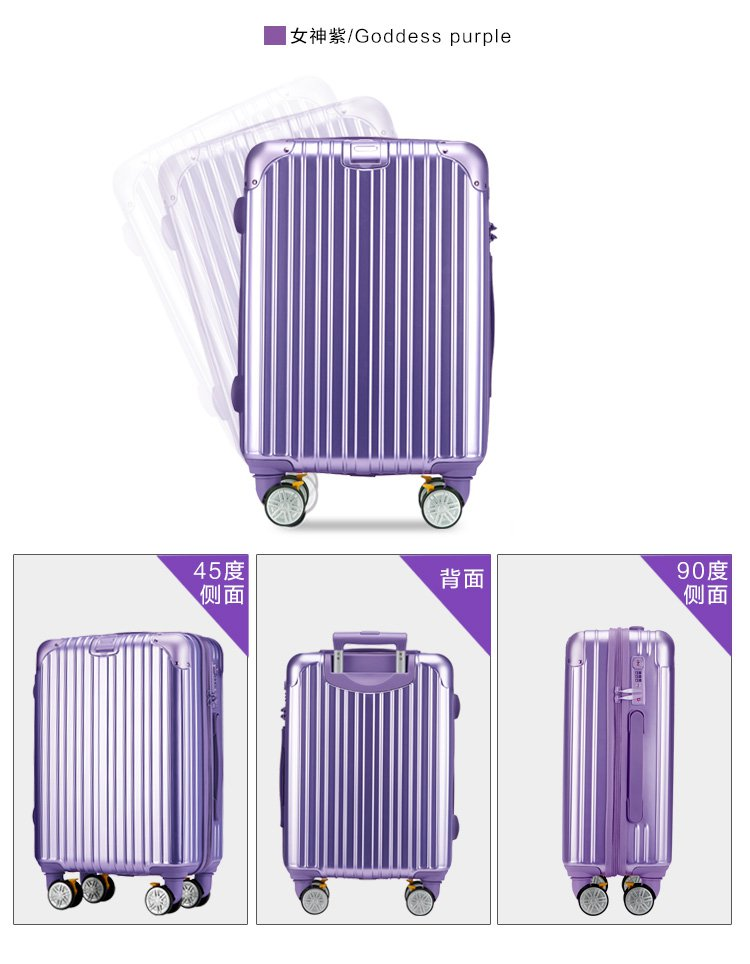luggage: (33, 629, 227, 914), (278, 630, 461, 915), (559, 624, 679, 917)
